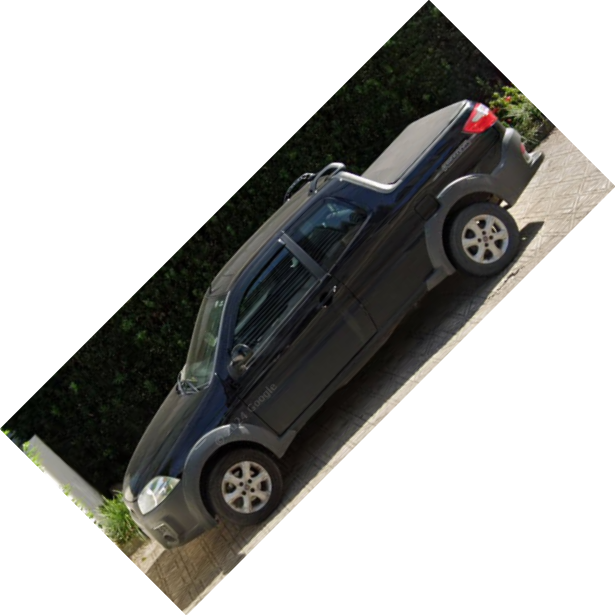car: (122, 97, 543, 551)
